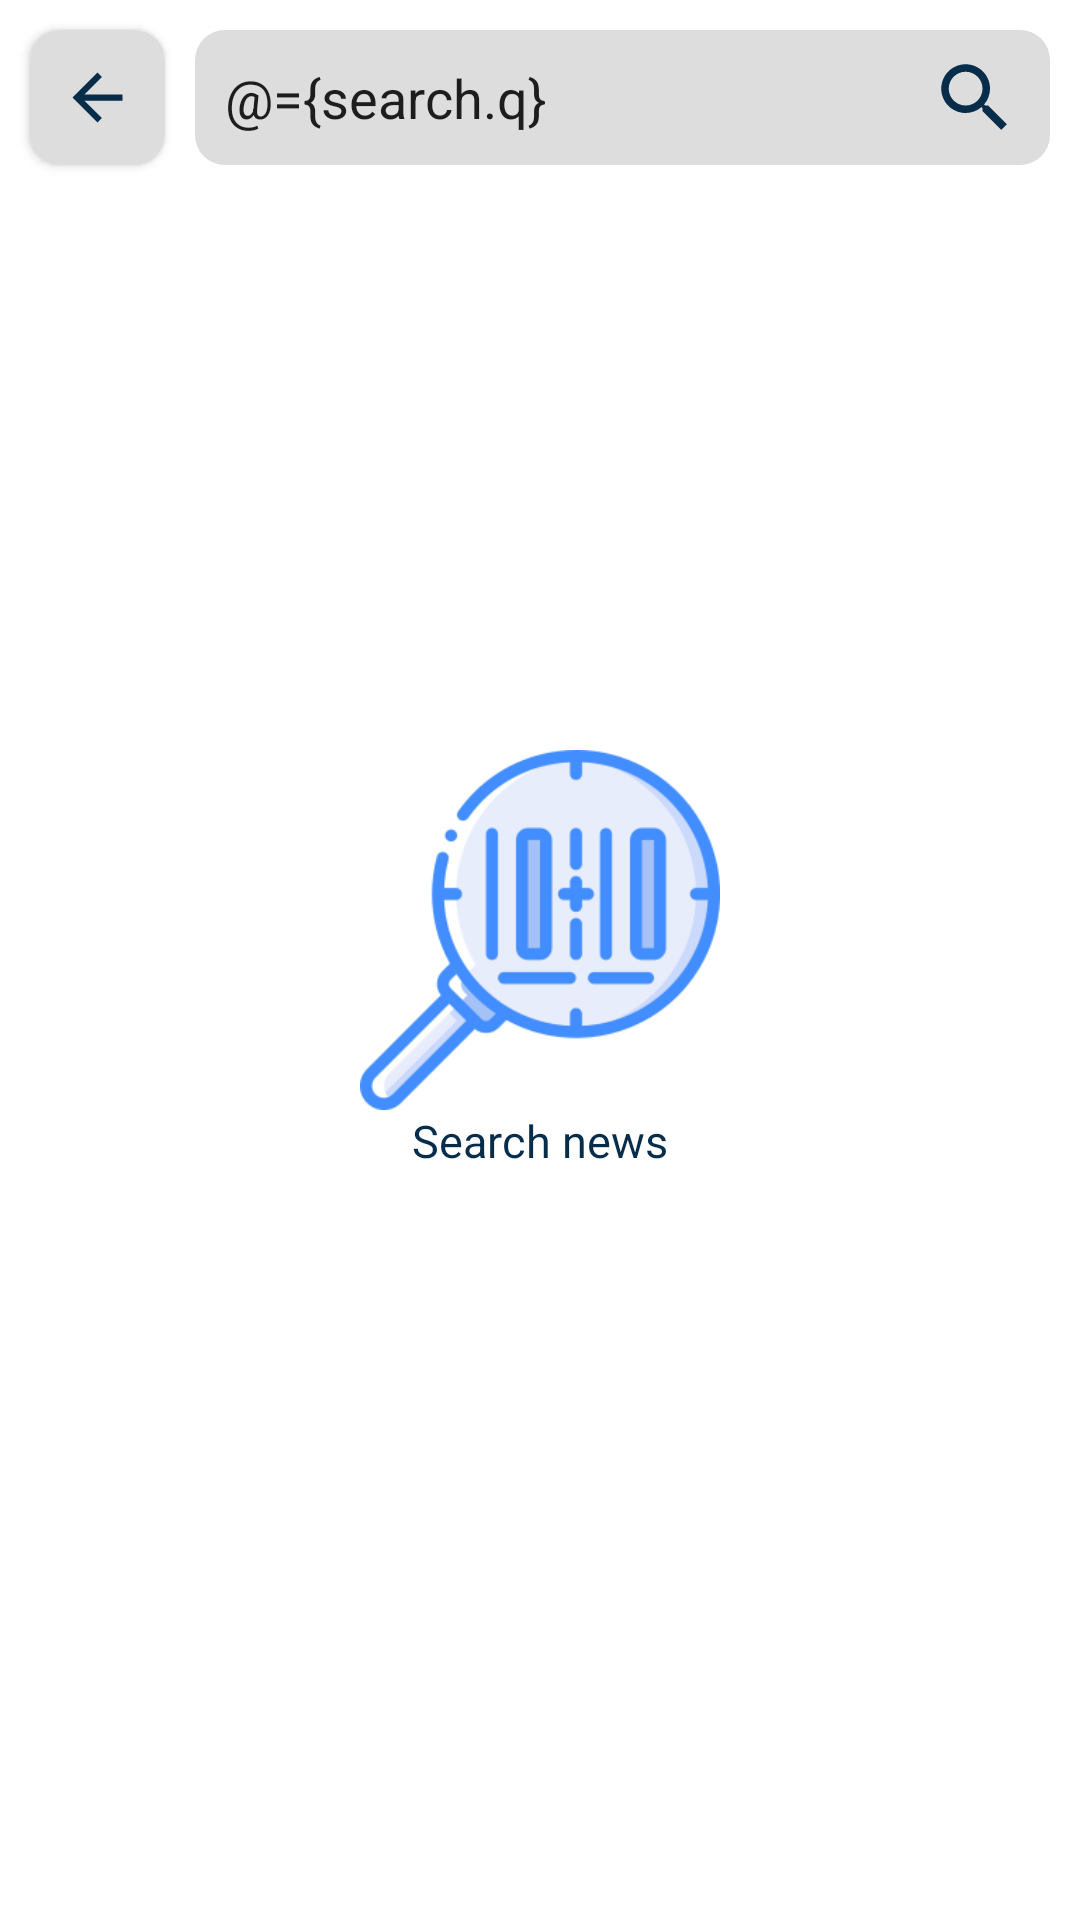

Icon bounding boxes for this 1080 × 1920 phone screenshot, format (x1, y1, x2, y2):
back layout: (72, 72, 123, 123)
search nav: (941, 64, 1007, 130)
